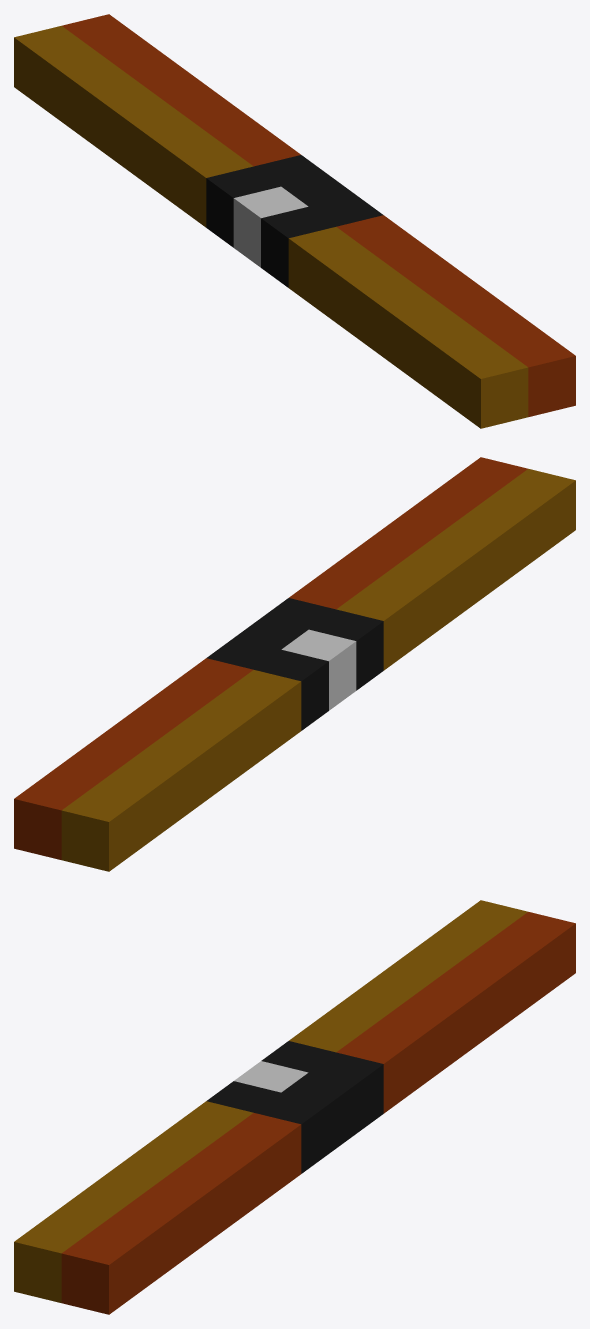
The model's file is ChopStick.FBX.
The picture shows the model from 3 angles, top to bottom: view 1: azimuth 30°, elevation 25°; view 2: azimuth 150°, elevation 25°; view 3: azimuth 330°, elevation 25°; orthographic projection.
Parts seen in each view (by area): view 1: Chop_Sticks_Closed; view 2: Chop_Sticks_Closed; view 3: Chop_Sticks_Closed.
Part boxes in pixels (x1,y1,x2,y2): Chop_Sticks_Closed: (14, 14, 575, 428); Chop_Sticks_Closed: (14, 457, 575, 871); Chop_Sticks_Closed: (14, 900, 575, 1314).
Bounding box in the file's own units: 0.2 × 0.1 × 1.7.
